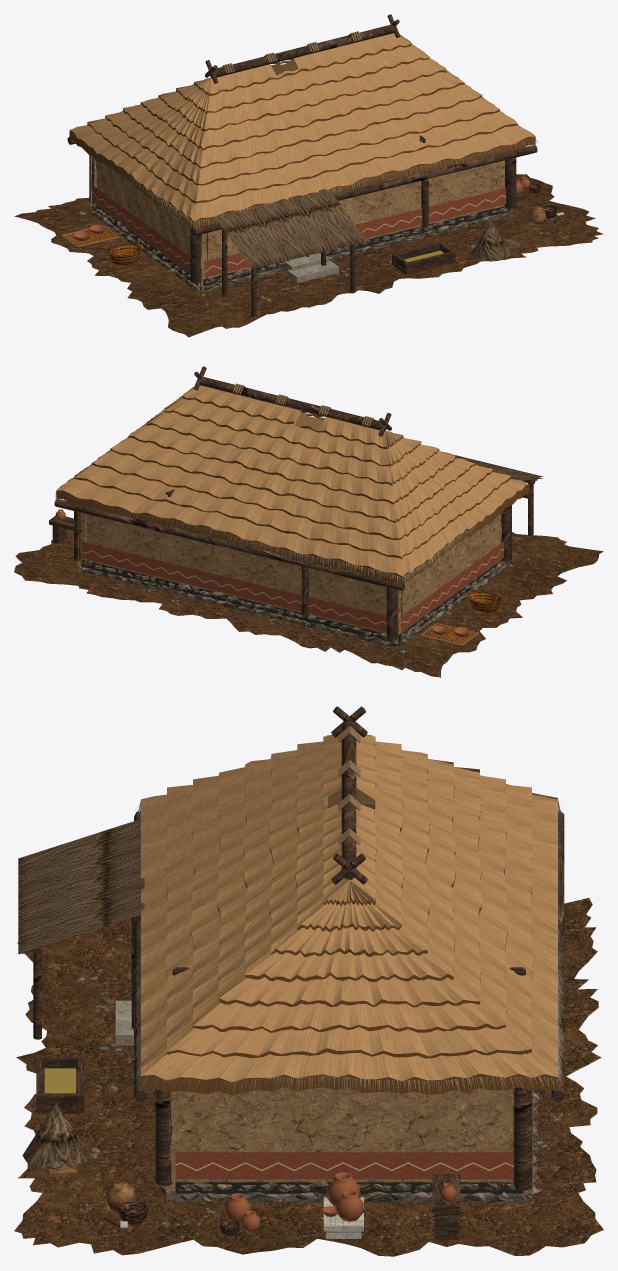
File: farm@1.glb
3 renders of one model, top to bottom at view 1: azimuth 30°, elevation 25°; view 2: azimuth 150°, elevation 25°; view 3: azimuth 270°, elevation 25°, orthographic. The views are drawn at different scales.
Visible parts, largest first — view 1: part_22, part_1, part_5, part_23, part_20, part_8, part_26, part_4, part_25, part_24, part_27, part_21 (+2 smaller); view 2: part_22, part_1, part_5, part_23, part_8, part_26, part_4, part_24, part_25, part_21, part_20, part_18; view 3: part_22, part_1, part_5, part_8, part_20, part_23, part_26, part_4, part_24, part_19, part_25, part_12 (+6 smaller).
Part boxes in pixels (x1,y1,x2,y2): part_22: (70, 33, 534, 221); part_1: (14, 174, 603, 337); part_5: (90, 155, 514, 286); part_23: (69, 43, 535, 228); part_20: (216, 189, 510, 269); part_8: (67, 14, 561, 317); part_26: (92, 185, 506, 277); part_4: (90, 205, 516, 291); part_25: (93, 203, 509, 289); part_24: (69, 132, 537, 230); part_27: (284, 253, 338, 282); part_21: (63, 227, 141, 265); part_22: (57, 385, 528, 576); part_1: (14, 529, 603, 677); part_5: (78, 512, 507, 642); part_23: (56, 395, 529, 583); part_8: (49, 366, 537, 640); part_26: (81, 541, 503, 632); part_4: (79, 561, 506, 647); part_24: (55, 486, 530, 584); part_25: (80, 559, 502, 646); part_21: (422, 588, 501, 644); part_20: (454, 455, 543, 480); part_18: (233, 383, 478, 645); part_22: (141, 734, 557, 1082); part_1: (14, 898, 603, 1256); part_5: (165, 814, 533, 1192); part_8: (22, 706, 564, 1239); part_20: (18, 819, 144, 1168); part_23: (141, 743, 557, 1095); part_26: (175, 1152, 513, 1179); part_4: (47, 1089, 542, 1203); part_24: (134, 798, 564, 1096); part_19: (224, 1172, 456, 1232); part_25: (175, 1181, 532, 1197); part_12: (47, 1161, 136, 1213).
Size of the model in its own units: 9.08 by 3.56 by 6.3.
Materials: 27 (17 with a texture image).
